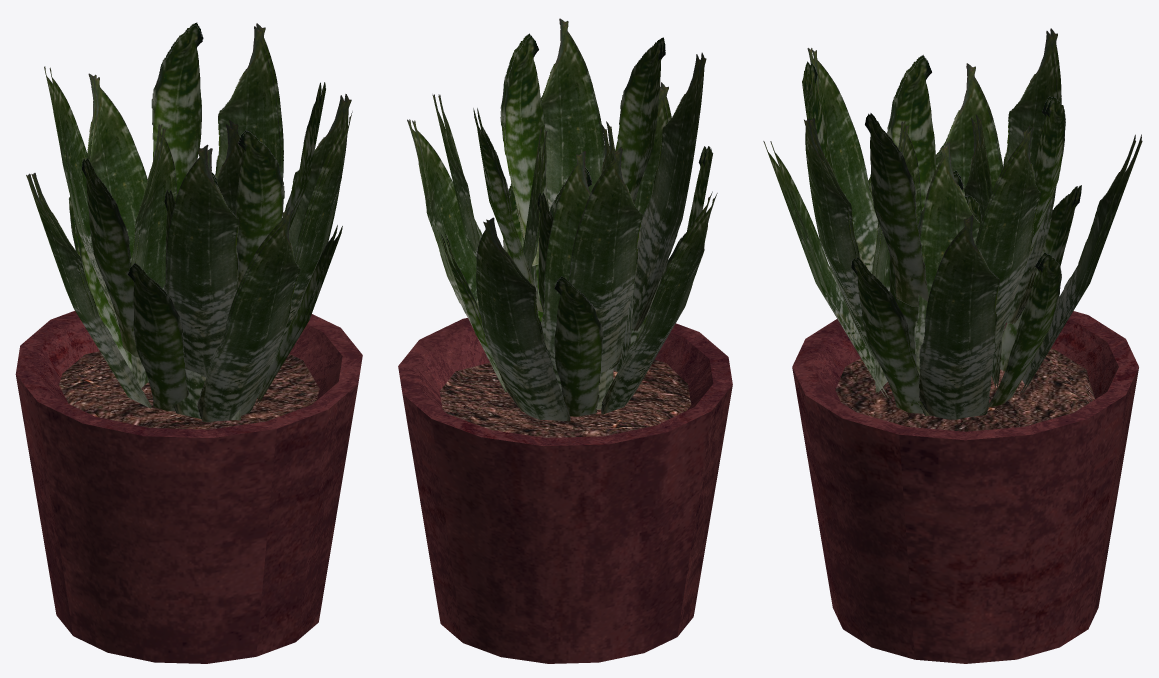
The model's file is Plant01.fbx.
The picture shows the model from 3 angles, left to right: view 1: azimuth 30°, elevation 25°; view 2: azimuth 150°, elevation 25°; view 3: azimuth 270°, elevation 25°; orthographic projection. The views are drawn at different scales.
Parts seen in each view (by area): view 1: Cylinder.003, Plane.002; view 2: Cylinder.003, Plane.002; view 3: Cylinder.003, Plane.002.
Part boxes in pixels (x1,y1,x2,y2): Cylinder.003: [15, 311, 362, 663]; Plane.002: [26, 22, 352, 421]; Cylinder.003: [398, 318, 732, 663]; Plane.002: [407, 18, 717, 421]; Cylinder.003: [792, 311, 1138, 663]; Plane.002: [763, 28, 1142, 419].
Bounding box in the file's own units: 144 × 231 × 148.
2 materials, 2 textured.
